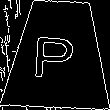P_N: (35, 28, 81, 80)
